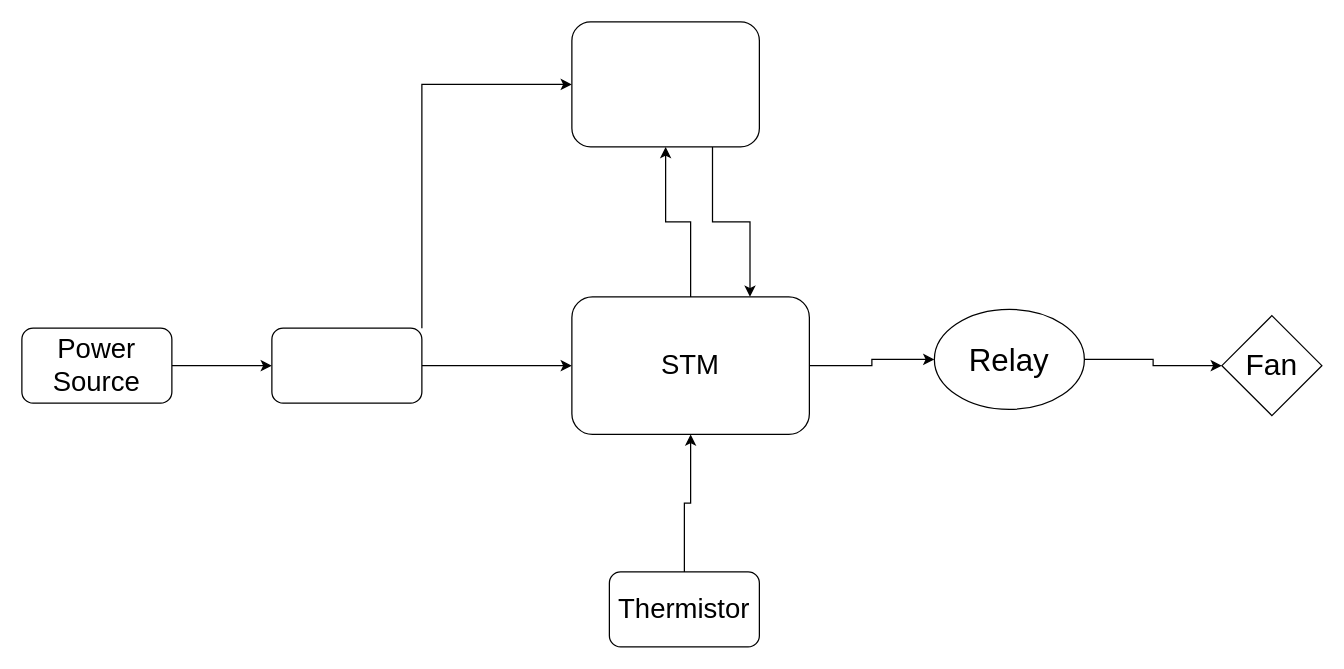
The diagram is 1344 pixels wide and 669 high, and some of its shapes have lost their labels. Each missing label, with the centre of its shape:
"ESP (for Comms)" goes at pixel 665 84.
"Voltage Sensor" goes at pixel 346 365.
